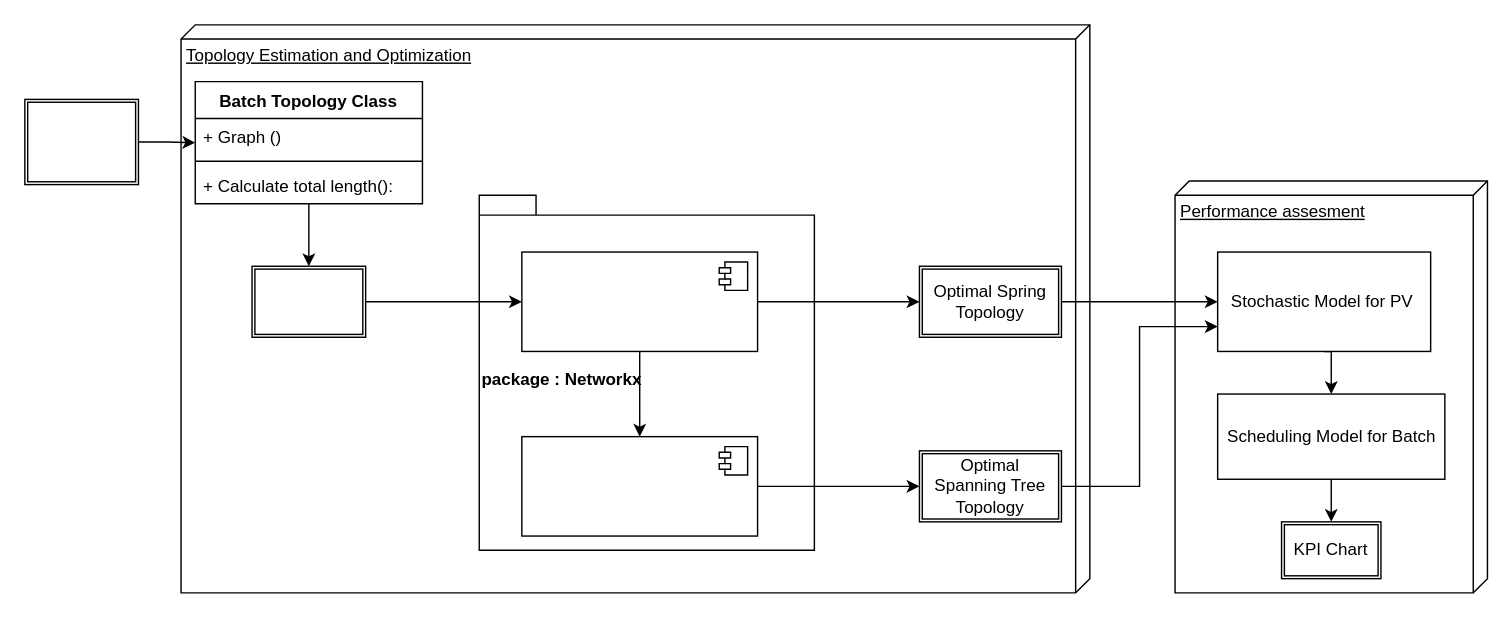
The diagram is 1512 pixels wide and 618 high, and some of its shapes have lost their labels. The shapes that lost their labels are listed below. From the top down, each one's centre as x and y in pixels, then its label:
At (x=80, y=141): "Batch Interface".
At (x=308, y=301): "Logical Topology".
At (x=639, y=301): "Spring layout Component".
At (x=639, y=485): "Spanning Tree layout Component".
